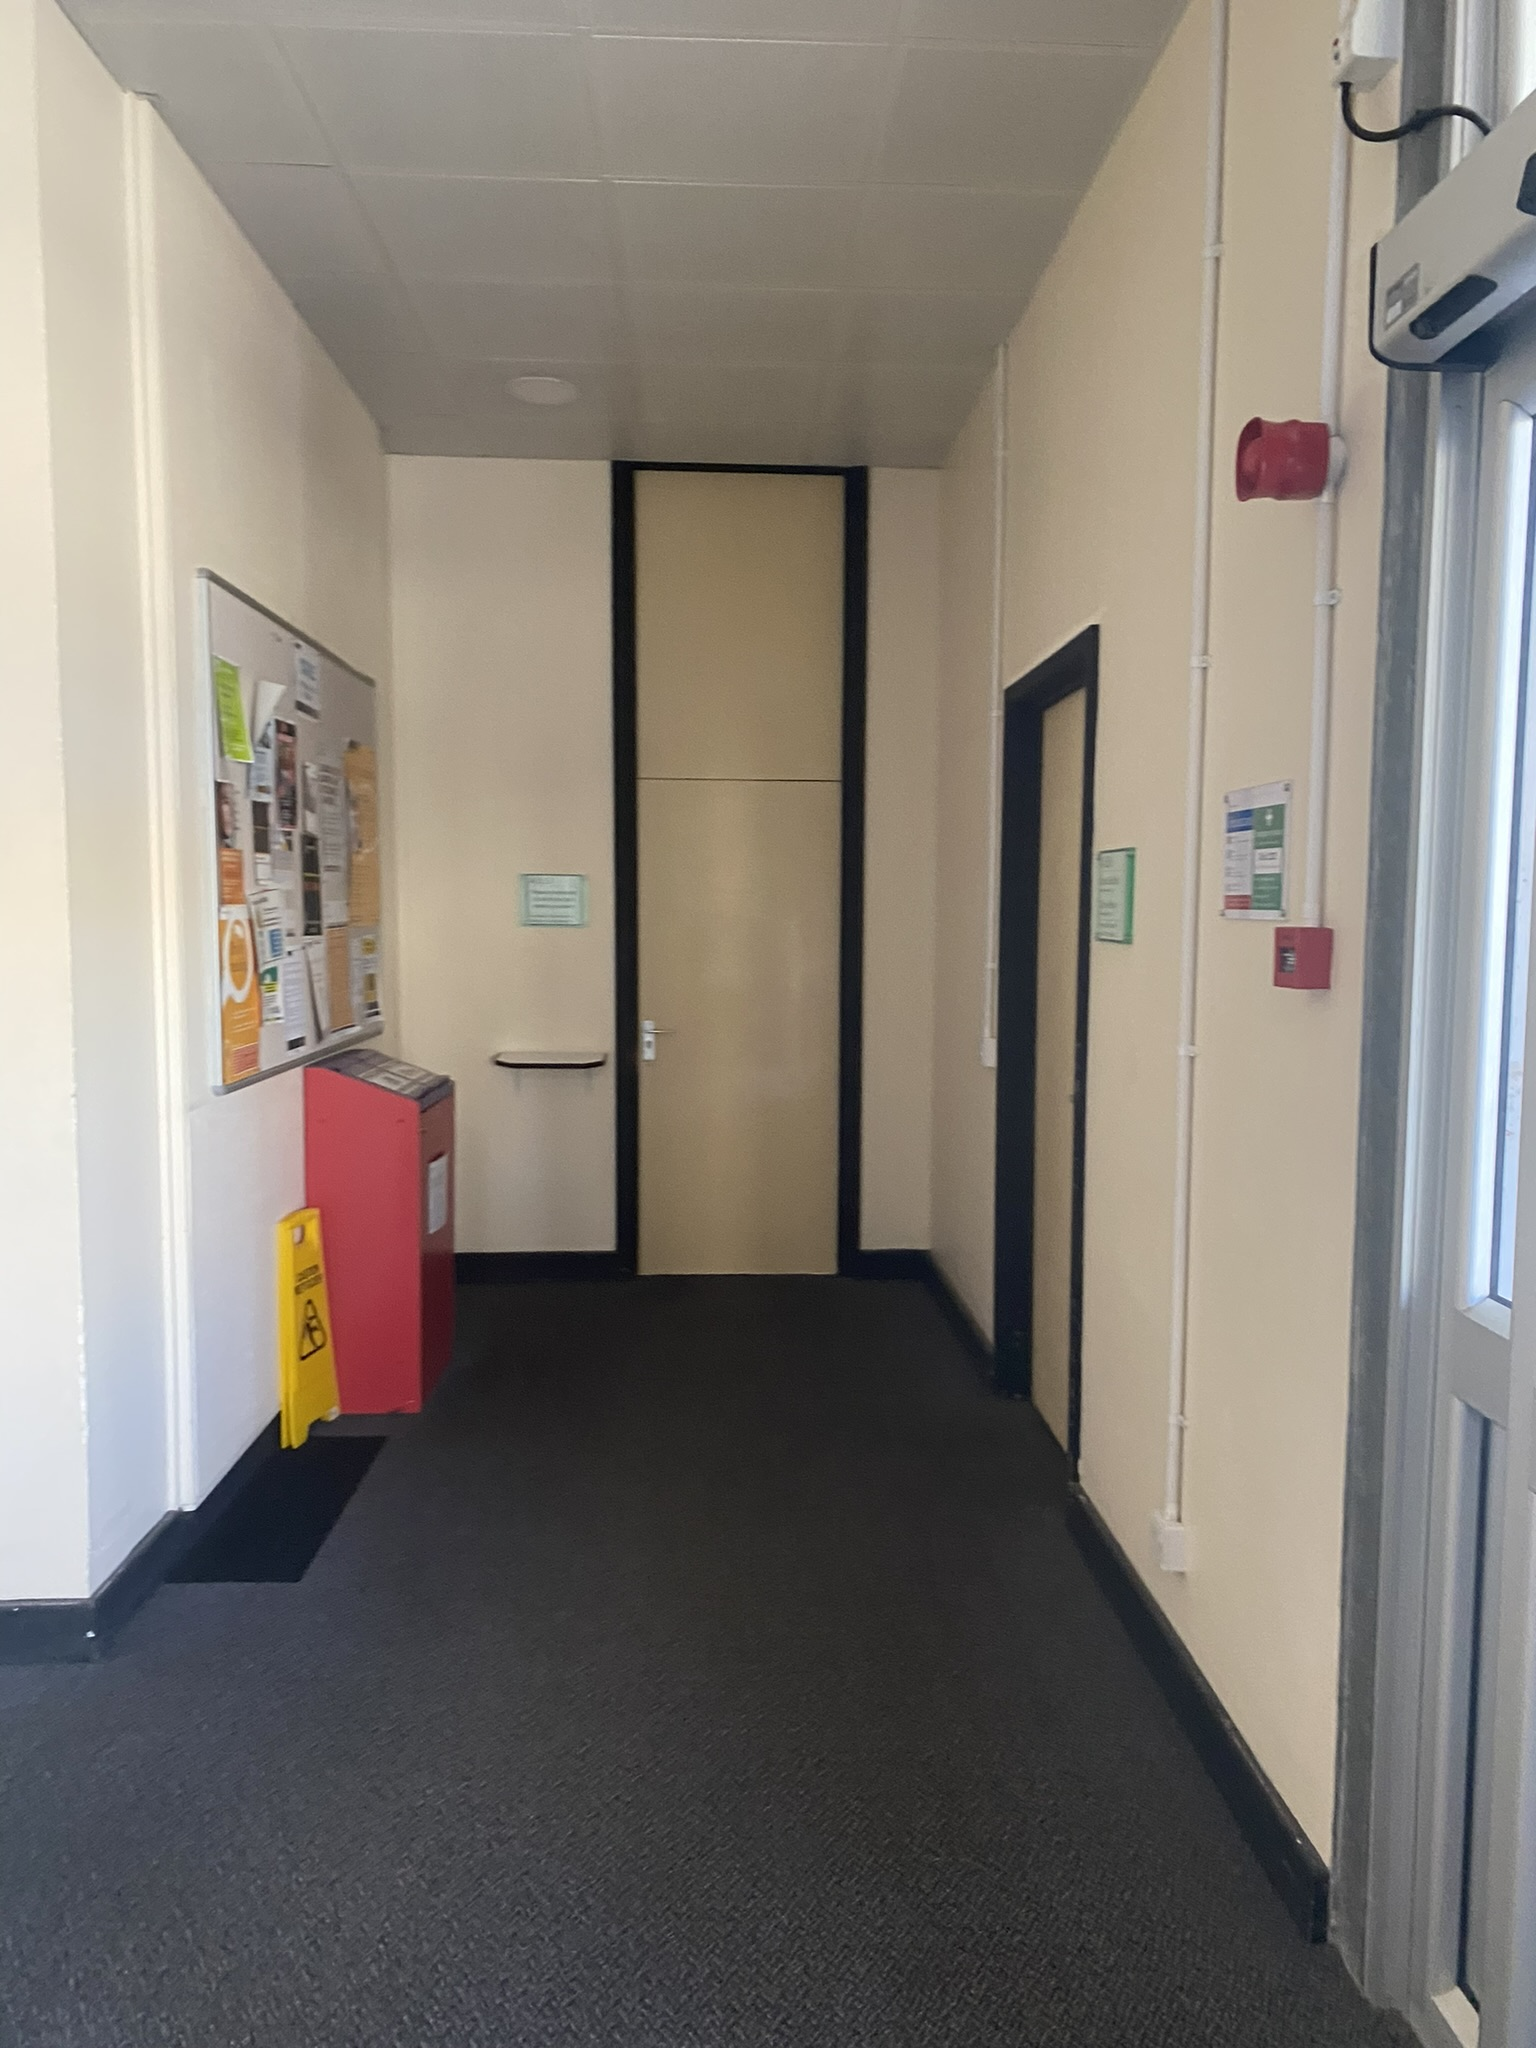door: (1362, 368, 1536, 1771), (611, 469, 871, 1327), (983, 679, 1083, 1517)
